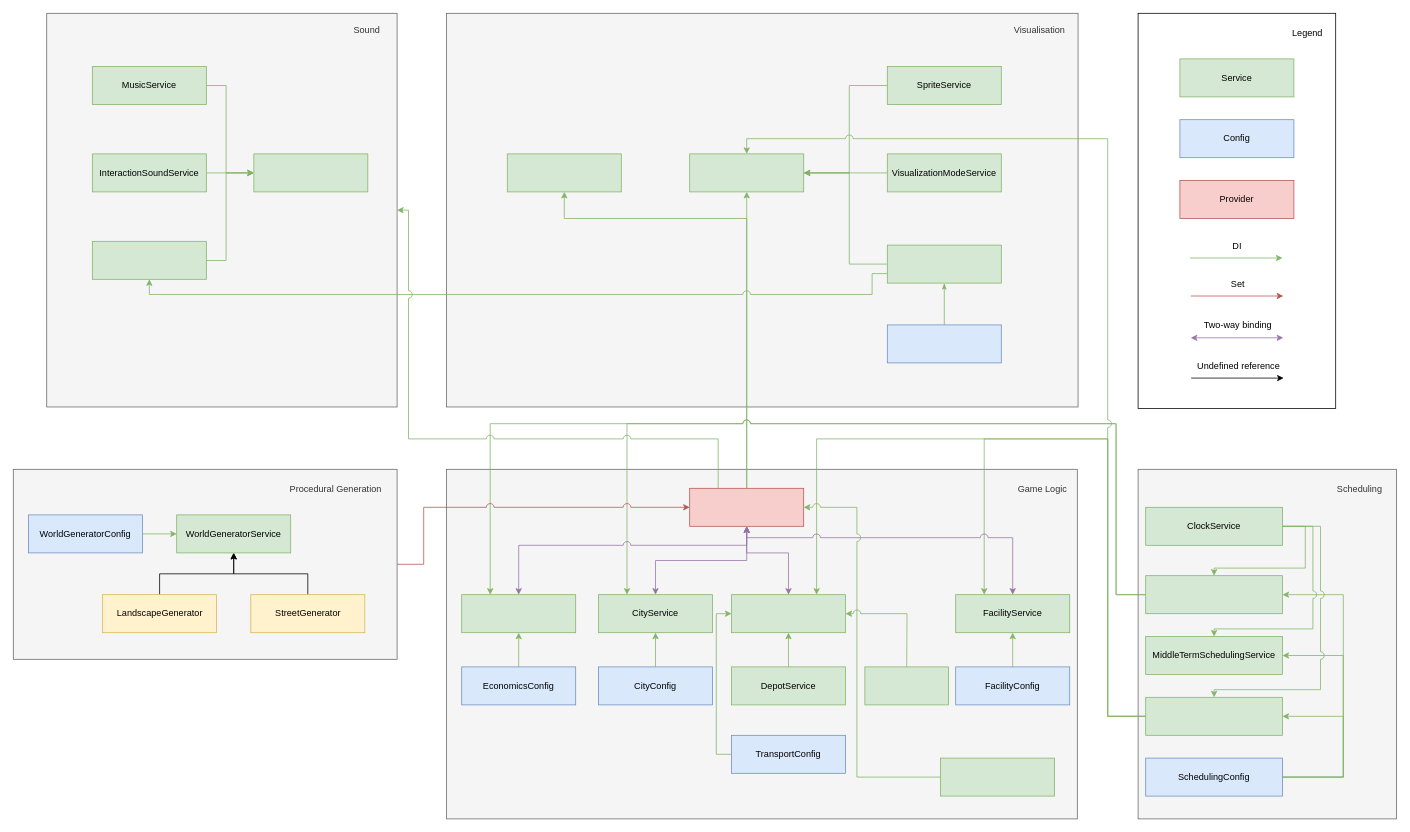
Some shapes in this 1410 by 832 pixel diagram are drawn without their labels. Each missing label, with the centre of its shape:
AmbientSoundService: point 149,260
CameraConfig: point 944,343
CameraService: point 944,263
EconomicsService: point 518,613
GameStateProvider: point 746,507
GuiRenderService: point 564,172
LongTermSchedulingService: point 1213,594
MapRenderService: point 746,172
RouteService: point 906,685
ShortTermSchedulingService: point 1213,716
SoundMixerService: point 310,172
TransportService: point 788,613
UserSettingsService: point 997,776
